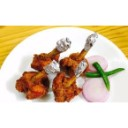chicken_lollipop: (7, 61, 58, 103), (29, 31, 73, 72), (55, 60, 87, 103), (70, 30, 99, 75)
